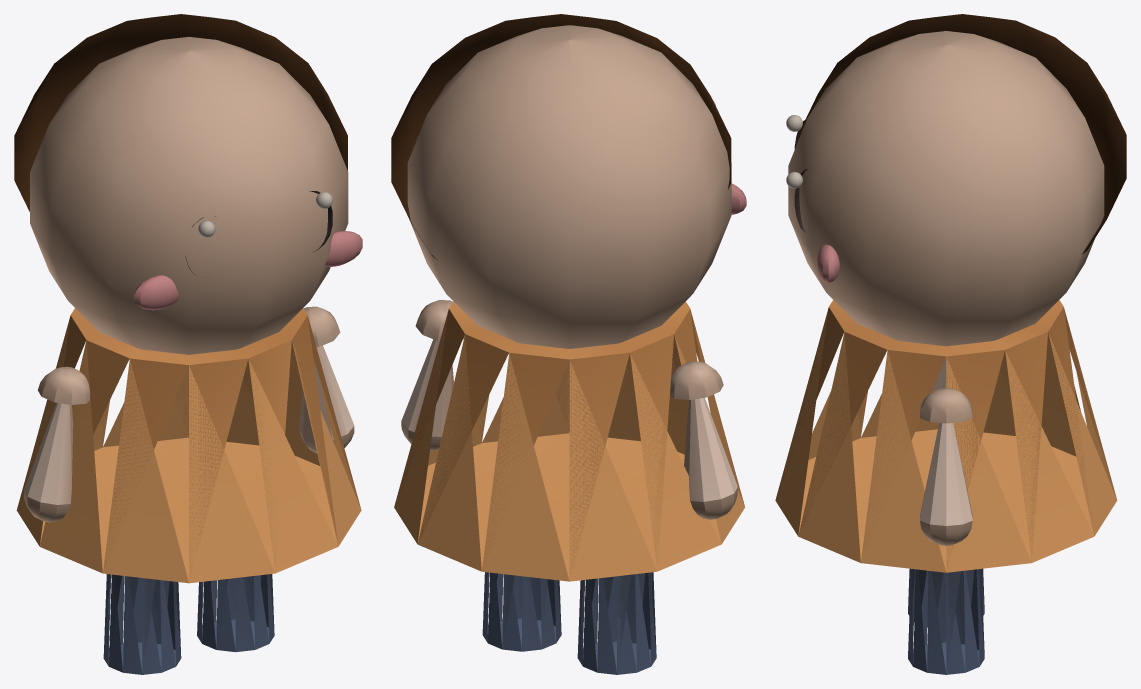
3 views of the same model, side by side, from view 1: azimuth 30°, elevation 25°; view 2: azimuth 150°, elevation 25°; view 3: azimuth 270°, elevation 25° (orthographic). The views are drawn at different scales.
Parts seen in each view (by area): view 1: pet_p42759484; view 2: pet_p42759484; view 3: pet_p42759484.
Boxes of the visible parts, <box> form: pet_p42759484: <box>14,14,362,674</box>; pet_p42759484: <box>391,14,746,674</box>; pet_p42759484: <box>775,14,1126,674</box>.
Bounding box in the file's own units: 0.3464 × 0.625 × 0.3287.
